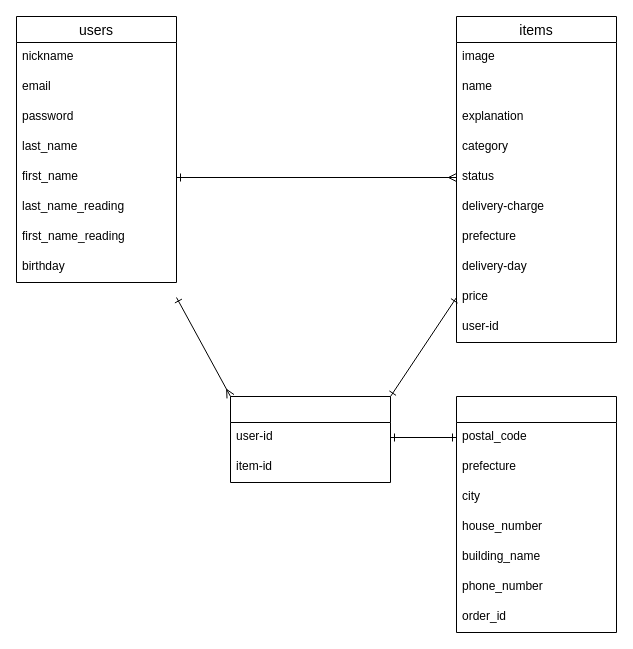
This 633x649 diagram has some shape labels left out. The box of each missing label's shape, as (x1, y1, x2, y2) in pixels:
address: (456, 396, 616, 632)
orders: (230, 396, 390, 482)
